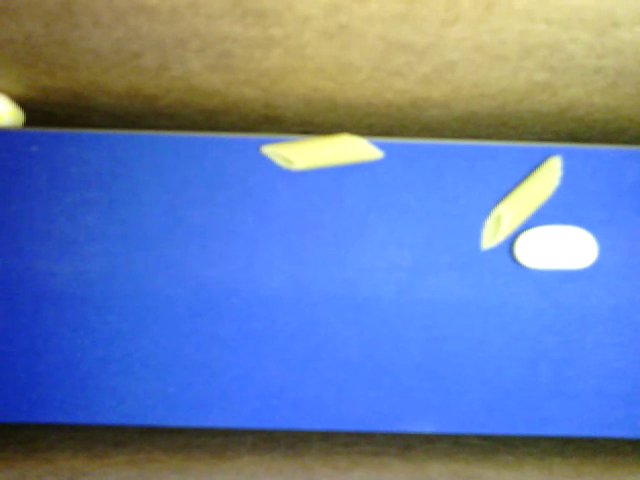penne: (480, 154, 562, 249), (260, 129, 386, 173)
